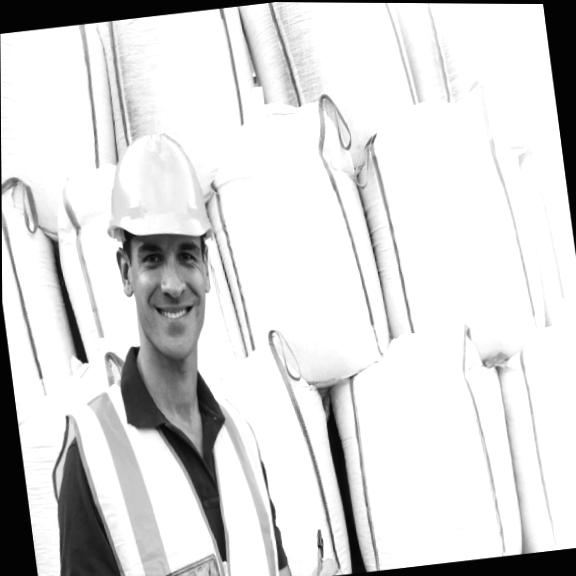safety_vest: (30, 362, 282, 576)
